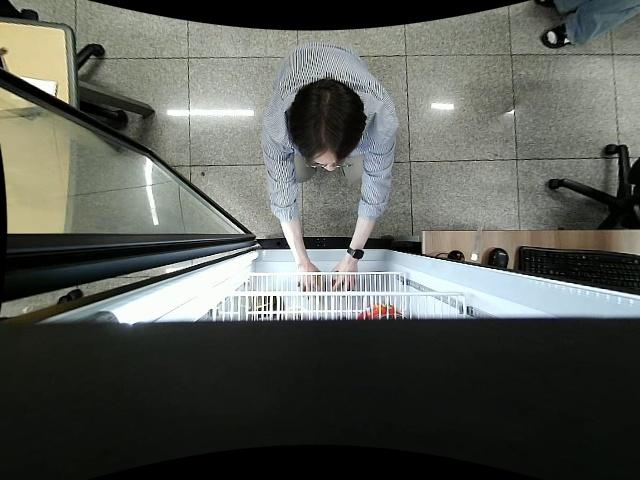00_hand: (299, 265, 325, 294), (330, 265, 356, 291)
